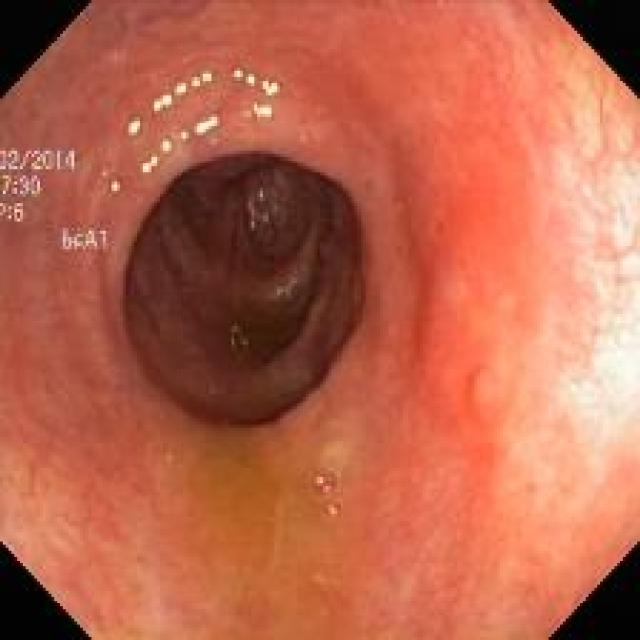ulcerative-colitis-grade-1: (2, 3, 639, 638)
